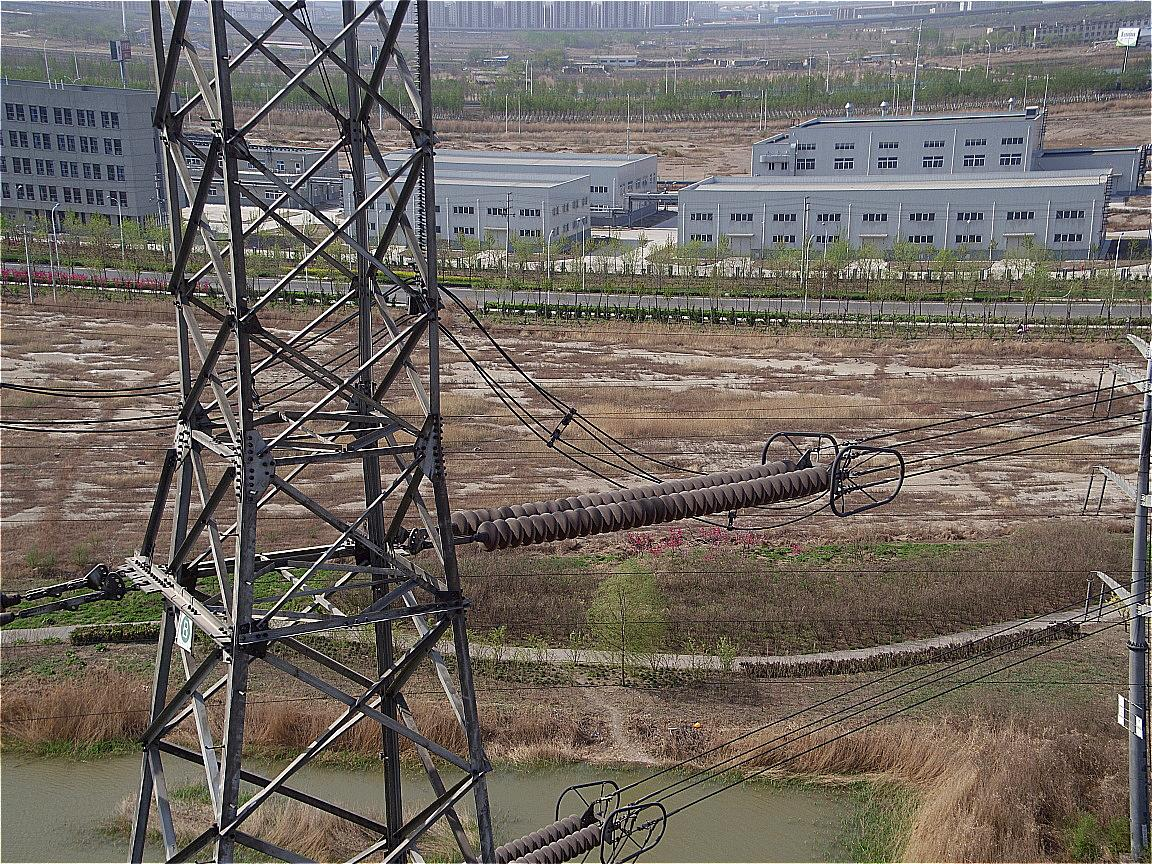insultor1: (453, 458, 831, 553)
